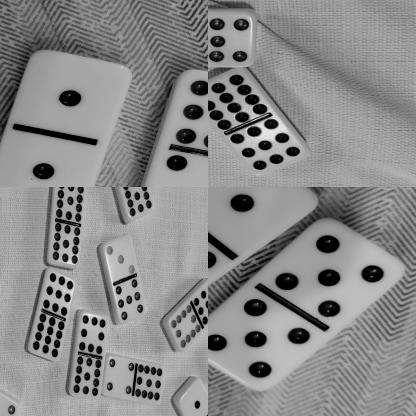pip-1: (3, 51, 132, 136), (208, 187, 317, 249), (0, 135, 100, 187), (178, 379, 208, 416)
pip-10: (169, 307, 200, 351)
pip-11: (47, 224, 81, 266), (69, 357, 102, 399), (134, 363, 164, 403), (55, 187, 84, 225), (122, 187, 151, 218)
pip-12: (208, 66, 267, 130), (27, 313, 64, 362)
pip-2: (134, 153, 208, 187)
pip-3: (104, 236, 137, 279)
pip-4: (103, 353, 134, 397), (0, 394, 20, 416)
pip-5: (273, 219, 405, 320), (208, 294, 309, 392)
pip-7: (208, 9, 253, 67), (114, 279, 146, 325)
pip-8: (78, 312, 108, 356)
pip-9: (152, 70, 208, 154), (229, 120, 310, 175), (43, 271, 75, 316), (193, 278, 208, 327)
